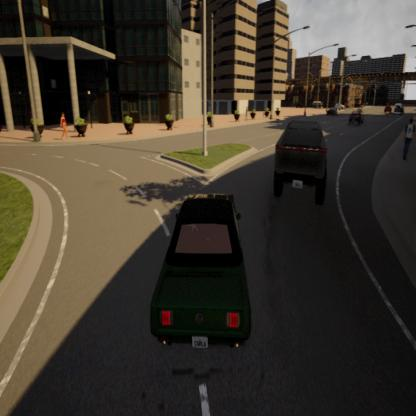Cars: (147, 191, 251, 356), (272, 117, 326, 206), (350, 106, 362, 125), (394, 105, 407, 113), (384, 102, 392, 111)
Pedestrian: (404, 117, 416, 164), (58, 108, 68, 145)
